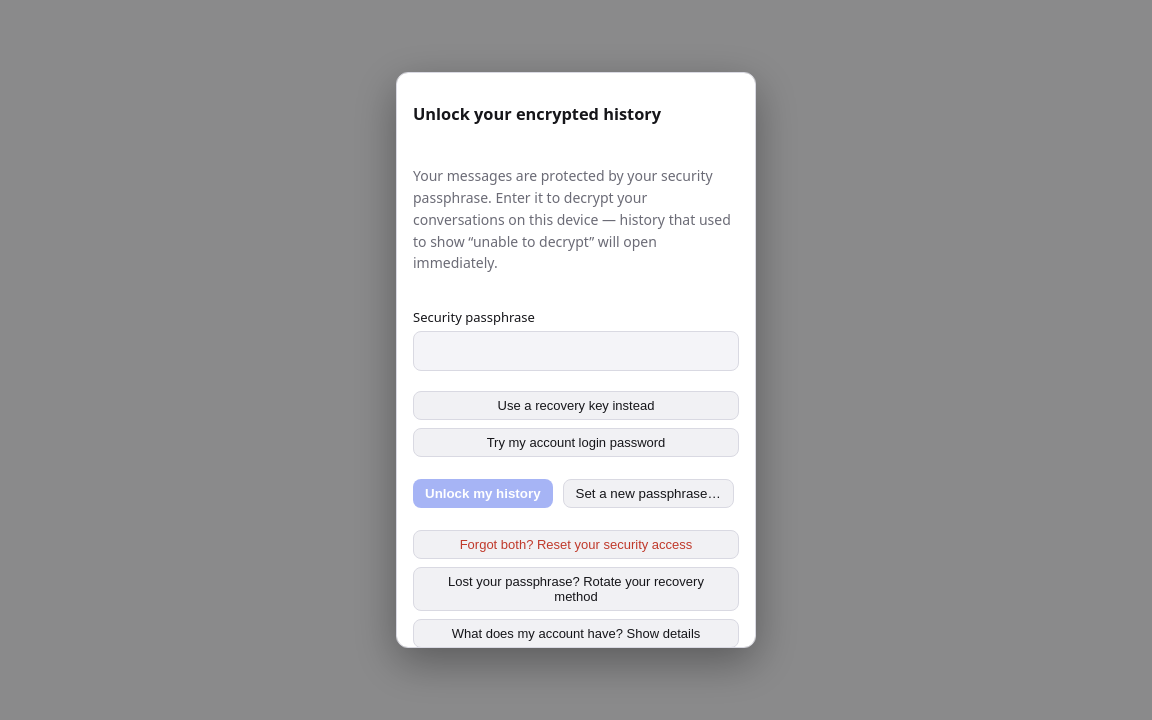
Test: W24 rotate entry + prove step › unlock screen offers the NON-destructive rotate entry (and keeps the destructive reset entry)
Check: the button with test id "reset-entry" is shown, box x1=413 y1=530 x2=739 y2=559
Click the button with test id "rotate-entry" at [576, 589], box x1=413 y1=567 x2=739 y2=611
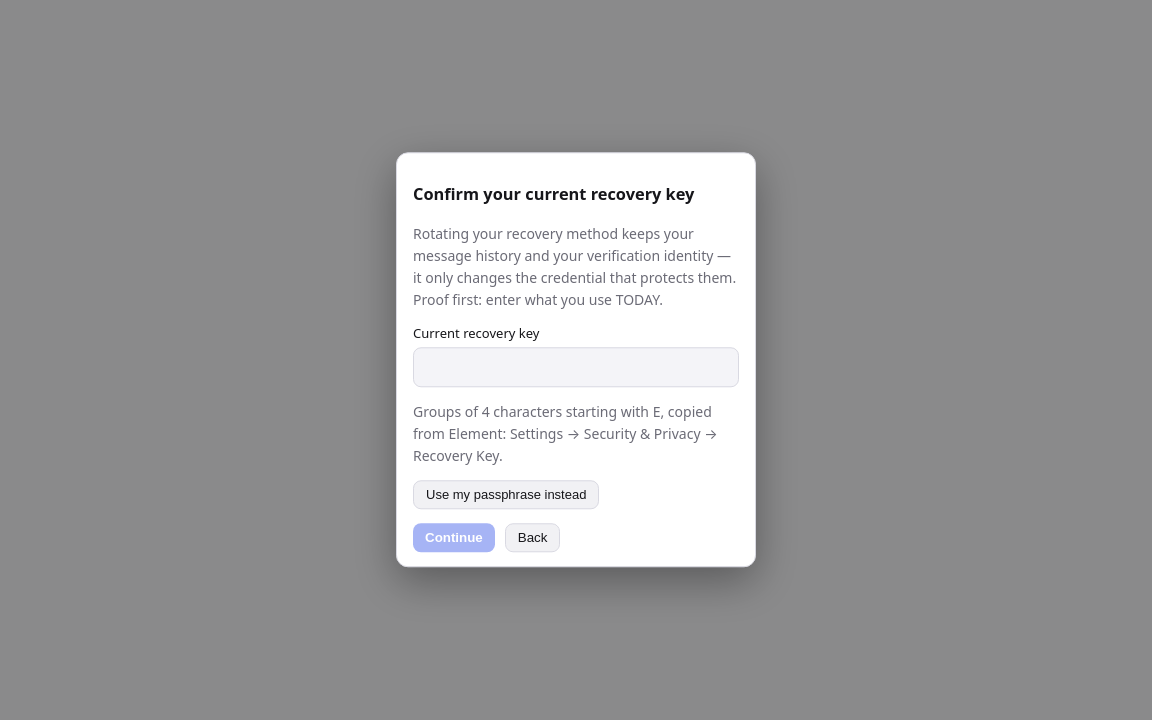
Check: the element with test id "rotate-prove" is shown, box x1=413 y1=167 x2=739 y2=553
